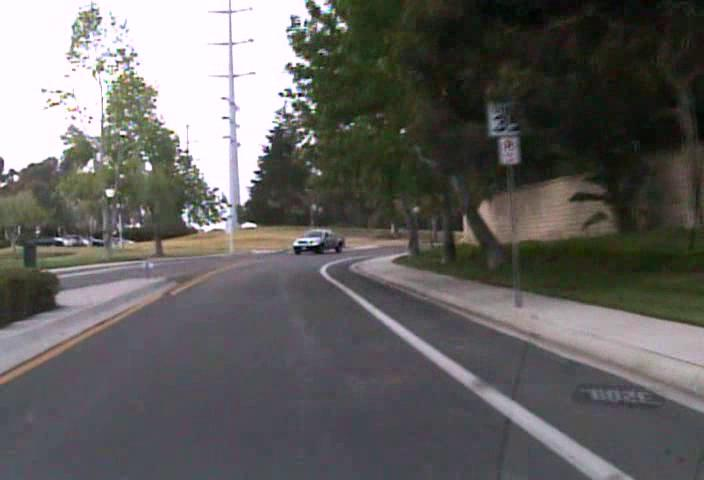speedLimit35: (485, 89, 527, 137)
